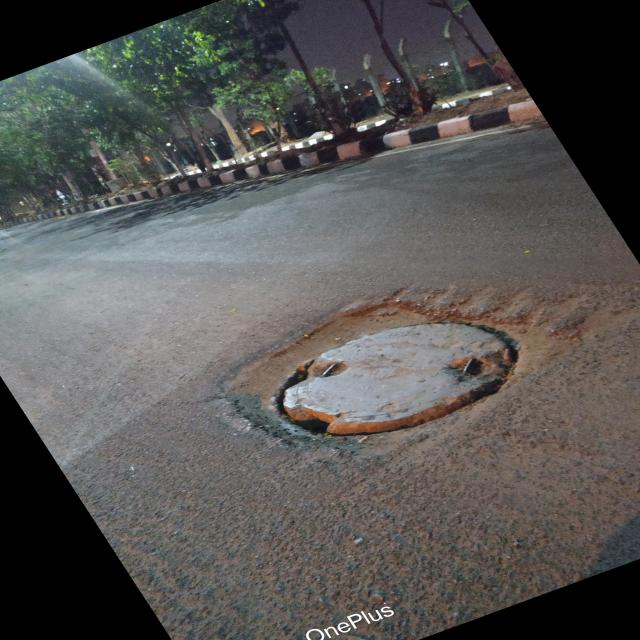manhole: (221, 291, 573, 461)
